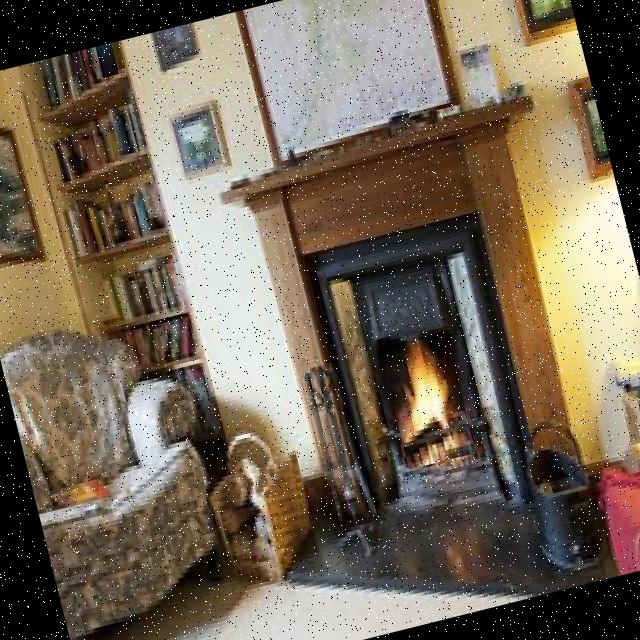fire: (378, 331, 476, 469)
